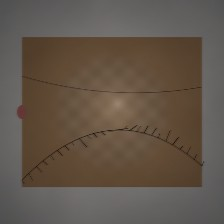pinguecula_lesion: (143, 87, 194, 128)
